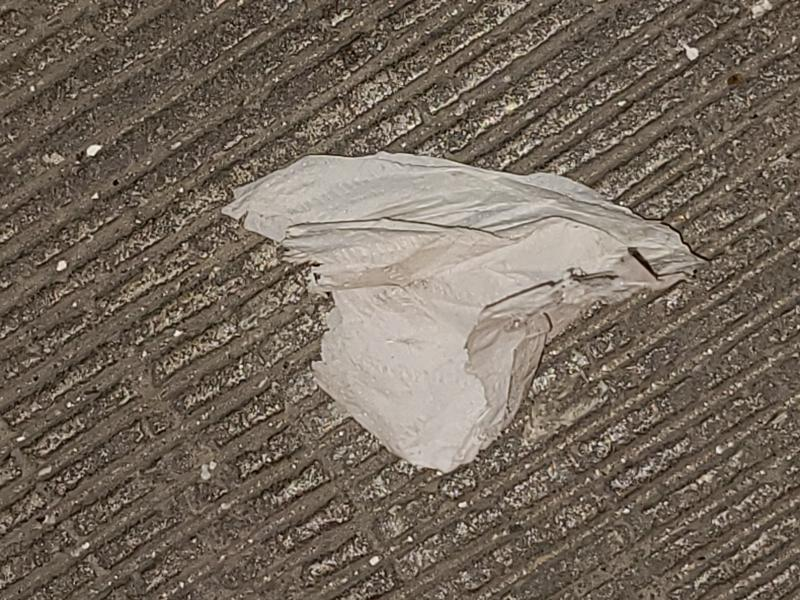papel: (222, 152, 703, 474)
